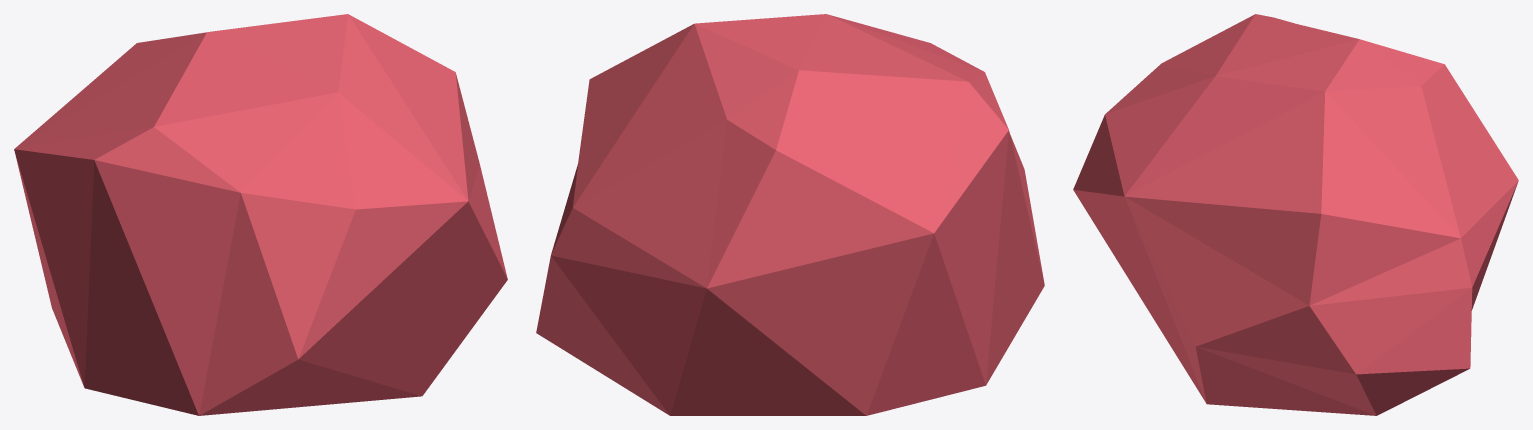
Rendered from decoration-stone-round.fbx.
3 renders of one model, left to right at view 1: azimuth 30°, elevation 25°; view 2: azimuth 150°, elevation 25°; view 3: azimuth 270°, elevation 25°, orthographic. The views are drawn at different scales.
Parts seen in each view (by area): view 1: decoration-stone-round; view 2: decoration-stone-round; view 3: decoration-stone-round.
Part boxes in pixels (x1,y1,x2,y2): decoration-stone-round: (14,14,507,415); decoration-stone-round: (536,14,1044,415); decoration-stone-round: (1073,14,1518,415).
Bounding box in the file's own units: 2.85 × 2.25 × 2.95.
